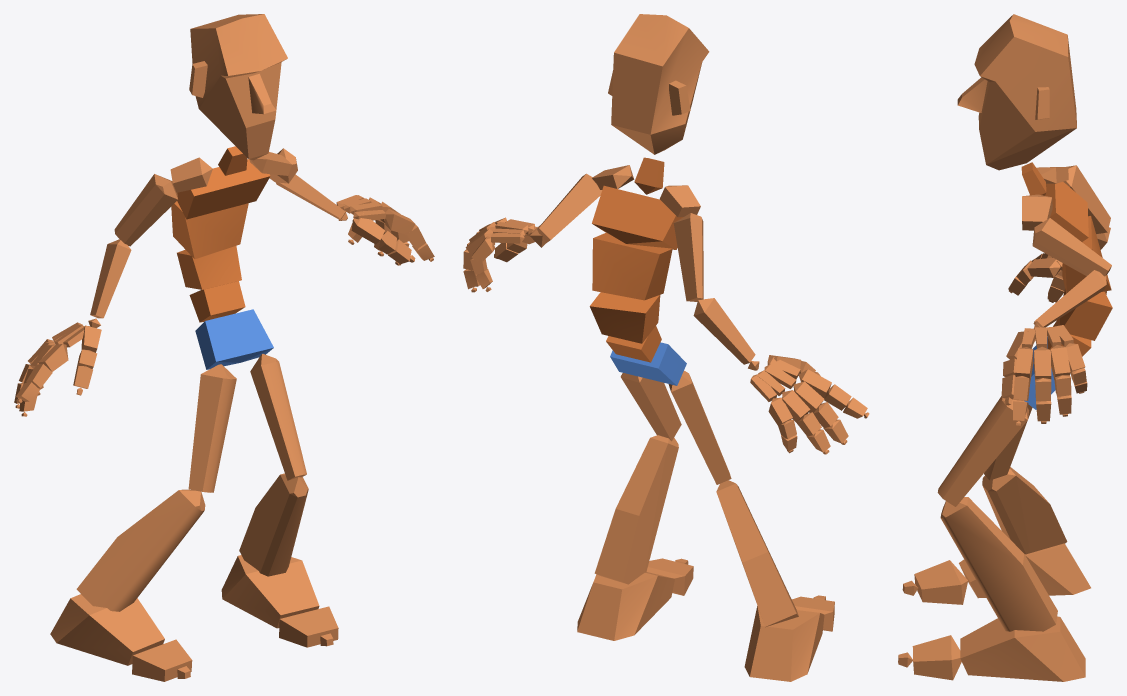
Rendered from prueba106.obj.
3 renders of one model, left to right at view 1: azimuth 30°, elevation 25°; view 2: azimuth 150°, elevation 25°; view 3: azimuth 270°, elevation 25°, orthographic. The views are drawn at different scales.
Parts seen in each view (by area): view 1: BOPED_Head, BOPED_R_leg, BOPED_R_foot, BOPED_L_leg, BOPED_R_foot01, BOPED_R_legup, BOPED_L_legup, Bone01, Bone04, Bone05, BOPED_R_arm_upper, Bone03 (+7 smaller); view 2: BOPED_Head, BOPED_L_leg, BOPED_R_foot01, BOPED_R_leg, BOPED_R_foot, Bone04, Bone05, Bone03, BOPED_R_legup, BOPED_R_arm_upper, BOPED_L_legup, Bone01 (+8 smaller); view 3: BOPED_Head, BOPED_L_leg, BOPED_R_foot01, BOPED_R_leg, BOPED_L_legup, BOPED_R_foot, BOPED_L_arm_upper, BOPED_R_foot_toe01, BOPED_R_foot_toe04, Bone05, Bone03, BOPED_L_arm_fore (+15 smaller).
Boxes of the visible parts, x1=… form: BOPED_Head: x1=189, y1=14, x2=287, y2=160; BOPED_R_leg: x1=76, y1=489, x2=205, y2=611; BOPED_R_foot: x1=50, y1=594, x2=164, y2=665; BOPED_L_leg: x1=239, y1=473, x2=308, y2=576; BOPED_R_foot01: x1=221, y1=555, x2=319, y2=628; BOPED_R_legup: x1=188, y1=364, x2=236, y2=492; BOPED_L_legup: x1=250, y1=354, x2=306, y2=480; Bone01: x1=195, y1=309, x2=273, y2=369; Bone04: x1=171, y1=201, x2=248, y2=258; Bone05: x1=177, y1=159, x2=270, y2=219; BOPED_R_arm_upper: x1=114, y1=174, x2=177, y2=246; Bone03: x1=177, y1=246, x2=241, y2=289; BOPED_Head: x1=608, y1=14, x2=709, y2=154; BOPED_L_leg: x1=594, y1=435, x2=678, y2=584; BOPED_R_foot01: x1=577, y1=572, x2=674, y2=640; BOPED_R_leg: x1=716, y1=480, x2=798, y2=627; BOPED_R_foot: x1=744, y1=606, x2=824, y2=681; Bone04: x1=592, y1=233, x2=672, y2=300; Bone05: x1=592, y1=185, x2=683, y2=249; Bone03: x1=589, y1=292, x2=660, y2=343; BOPED_R_legup: x1=668, y1=370, x2=731, y2=484; BOPED_R_arm_upper: x1=673, y1=213, x2=703, y2=301; BOPED_L_legup: x1=620, y1=373, x2=681, y2=441; Bone01: x1=610, y1=342, x2=686, y2=385; BOPED_Head: x1=957, y1=14, x2=1076, y2=170; BOPED_L_leg: x1=940, y1=497, x2=1057, y2=631; BOPED_R_foot01: x1=960, y1=616, x2=1085, y2=681; BOPED_R_leg: x1=982, y1=467, x2=1067, y2=554; BOPED_L_legup: x1=937, y1=396, x2=1028, y2=506; BOPED_R_foot: x1=959, y1=543, x2=1090, y2=598; BOPED_L_arm_upper: x1=1032, y1=218, x2=1111, y2=276; BOPED_R_foot_toe01: x1=914, y1=560, x2=967, y2=604; BOPED_R_foot_toe04: x1=912, y1=635, x2=961, y2=680; Bone05: x1=1045, y1=182, x2=1088, y2=241; Bone03: x1=1060, y1=289, x2=1112, y2=340; BOPED_L_arm_fore: x1=1033, y1=270, x2=1106, y2=327.
Size of the model in its own units: 130 by 183 by 56.5.
